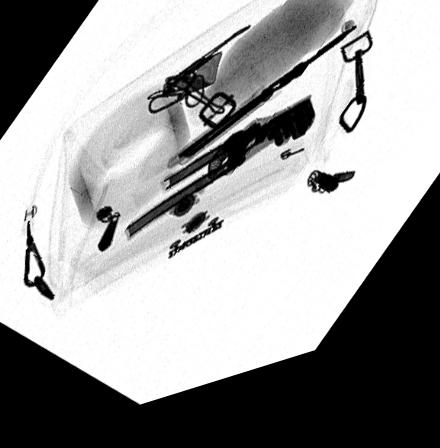Pliers: (126, 114, 316, 245), (175, 47, 357, 170)
